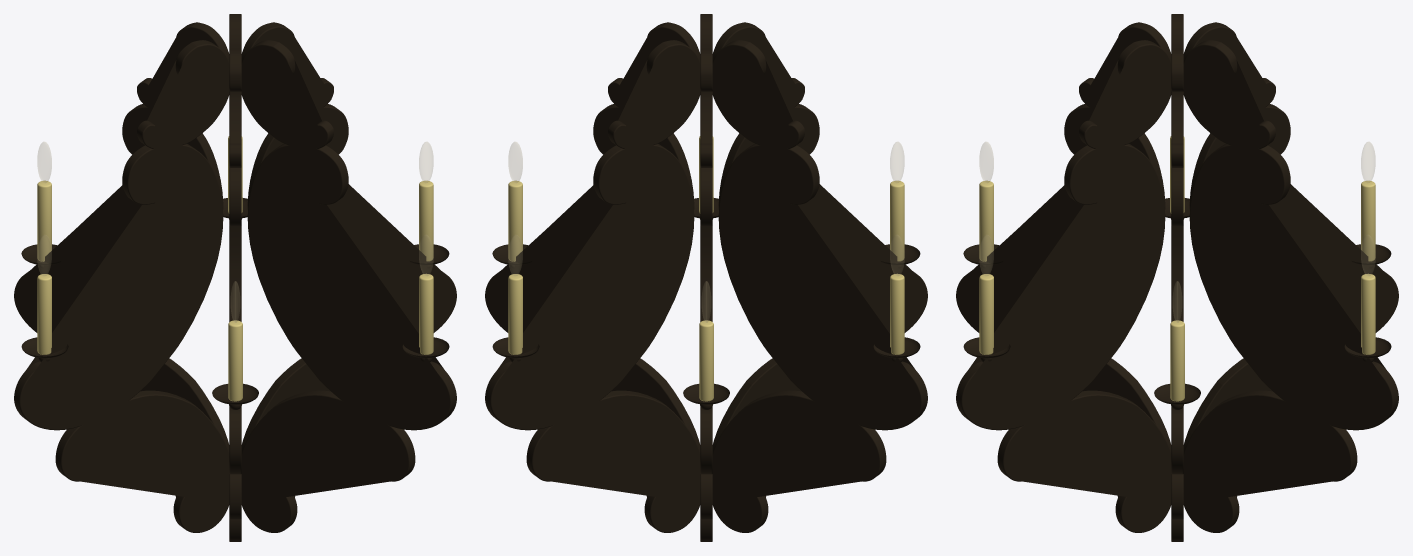
File: dontremember.fbx
The picture shows the model from 3 angles, left to right: view 1: azimuth 30°, elevation 25°; view 2: azimuth 150°, elevation 25°; view 3: azimuth 270°, elevation 25°; orthographic projection.
Visible parts, largest first — view 1: Шапка_1_5, Шапка_2_11, Шапка_2_10, Шапка_1_4, Шапка_1_2, Шапка_2_14, Шапка_1_6, Шапка_2_12, Выдавливание_1_3, Шапка_1_3, Шапка_1_11, Шапка_2_15 (+20 smaller); view 2: Шапка_1_11, Шапка_2_17, Шапка_2_16, Шапка_1_10, Шапка_1_8, Шапка_2_2, Шапка_1_12, Шапка_2_18, Выдавливание_1_5, Шапка_1_9, Шапка_1_17, Шапка_2_3 (+20 smaller); view 3: Шапка_1_17, Шапка_2_5, Шапка_2_4, Шапка_1_16, Шапка_1_14, Шапка_2_8, Шапка_1_18, Шапка_2_6, Выдавливание_1, Шапка_1_15, Шапка_1_5, Шапка_2_9 (+20 smaller).
Part boxes in pixels (x1,y1,x2,y2): Шапка_1_5: [248, 145, 450, 429]; Шапка_2_11: [20, 145, 222, 429]; Шапка_2_10: [62, 395, 229, 532]; Шапка_1_4: [241, 395, 408, 532]; Шапка_1_2: [264, 107, 456, 333]; Шапка_2_14: [14, 107, 206, 332]; Шапка_1_6: [241, 45, 327, 148]; Шапка_2_12: [143, 45, 229, 148]; Выдавливание_1_3: [230, 168, 240, 474]; Шапка_1_3: [253, 27, 333, 109]; Шапка_1_11: [26, 203, 154, 369]; Шапка_2_15: [137, 27, 217, 108]; Шапка_1_11: [719, 145, 921, 429]; Шапка_2_17: [491, 145, 693, 429]; Шапка_2_16: [533, 395, 700, 532]; Шапка_1_10: [712, 395, 879, 532]; Шапка_1_8: [735, 107, 927, 333]; Шапка_2_2: [485, 107, 677, 332]; Шапка_1_12: [712, 45, 798, 148]; Шапка_2_18: [614, 45, 700, 148]; Выдавливание_1_5: [701, 168, 711, 474]; Шапка_1_9: [724, 27, 804, 109]; Шапка_1_17: [497, 203, 625, 369]; Шапка_2_3: [608, 27, 688, 108]; Шапка_1_17: [1190, 145, 1392, 429]; Шапка_2_5: [962, 145, 1164, 429]; Шапка_2_4: [1004, 395, 1171, 532]; Шапка_1_16: [1183, 395, 1350, 532]; Шапка_1_14: [1206, 107, 1398, 333]; Шапка_2_8: [956, 107, 1148, 332]; Шапка_1_18: [1183, 45, 1269, 148]; Шапка_2_6: [1085, 45, 1171, 148]; Выдавливание_1: [1172, 168, 1182, 474]; Шапка_1_15: [1195, 27, 1275, 109]; Шапка_1_5: [968, 203, 1096, 369]; Шапка_2_9: [1079, 27, 1159, 108].
Bounding box in the file's own units: 486 × 517 × 426.
